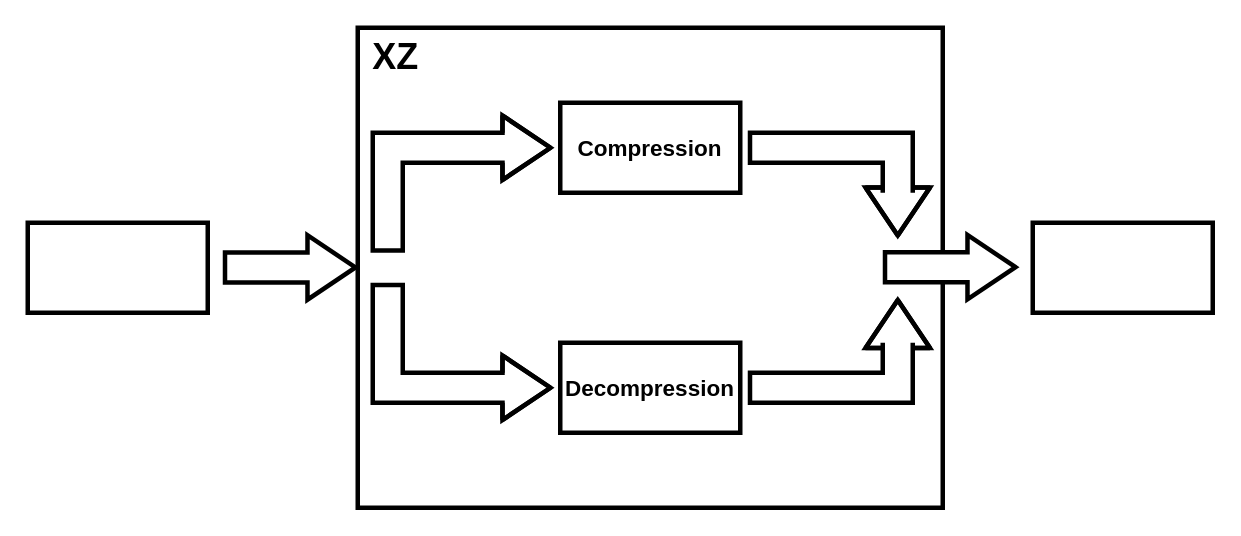
Some shapes in this 1241 by 536 pixel diagram are drawn without their labels. The shapes that lost their labels are listed below. From the top down, each one's box as (x1, y1, x2, y2) in pixels, then its label:
(25, 220, 209, 314): Configuration
(1030, 220, 1214, 314): Result
